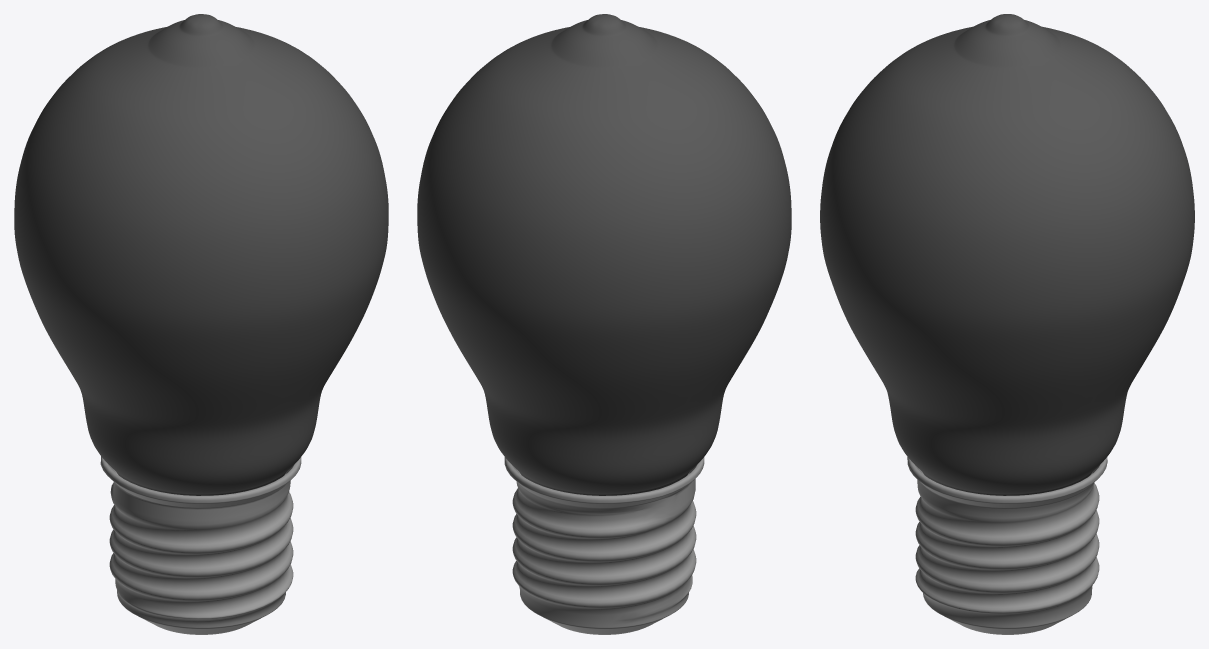
File: cgt_fmcg_light_bulbs_038.fbx
The picture shows the model from 3 angles, left to right: view 1: azimuth 30°, elevation 25°; view 2: azimuth 150°, elevation 25°; view 3: azimuth 270°, elevation 25°; orthographic projection.
Visible parts, largest first — view 1: glass_transparent_mesh, cap_mesh; view 2: glass_transparent_mesh, cap_mesh; view 3: glass_transparent_mesh, cap_mesh.
Boxes of the visible parts, left/top/right/bottom form: glass_transparent_mesh: left=14, top=14, right=388, bottom=495; cap_mesh: left=100, top=456, right=301, bottom=634; glass_transparent_mesh: left=417, top=14, right=791, bottom=495; cap_mesh: left=504, top=457, right=704, bottom=634; glass_transparent_mesh: left=820, top=14, right=1194, bottom=495; cap_mesh: left=907, top=457, right=1107, bottom=634.
Bounding box in the file's own units: 5.62 × 10 × 5.62.
2 materials, 2 textured.
